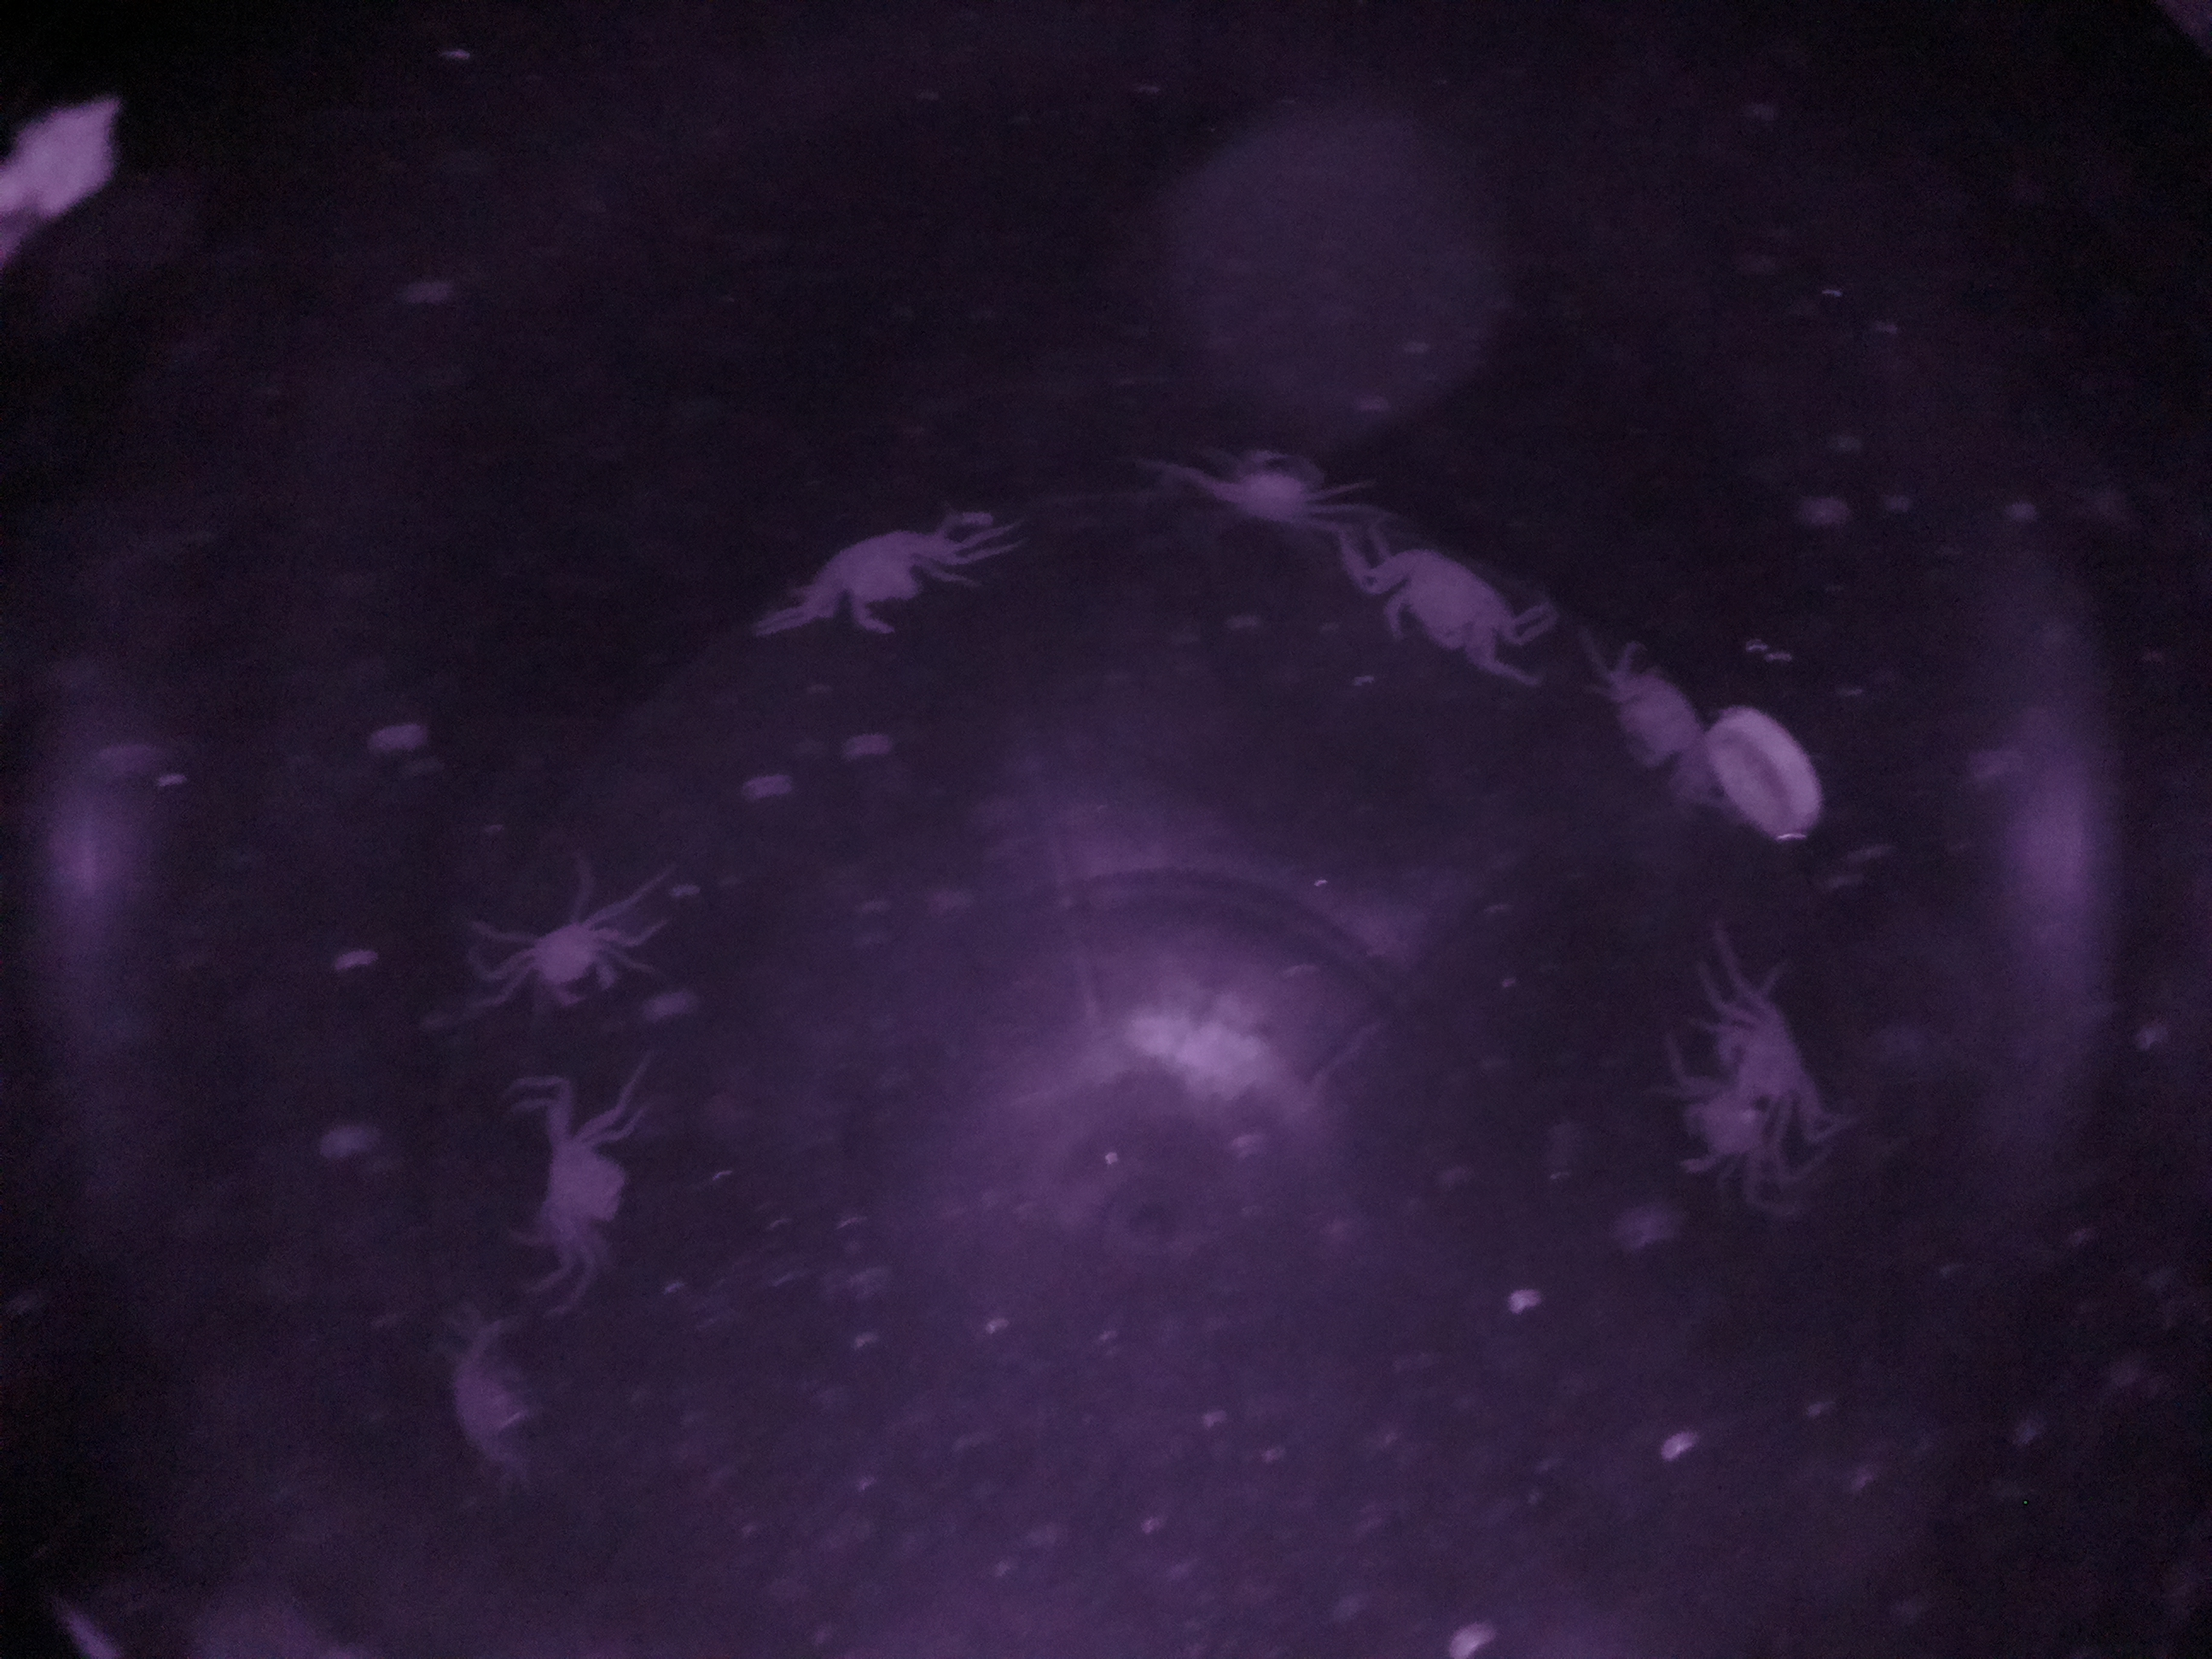Crab: (761, 483, 1021, 659), (1334, 500, 1559, 683), (505, 1075, 653, 1295), (496, 882, 650, 1023)
